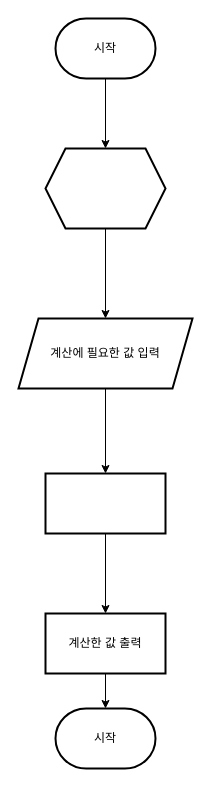
This 210x786 diagram has some shape labels left out. Each missing label, with the centre of its shape:
"계산" belongs at pixel 105 503.
"변수 선언 및 초기값 설명" belongs at pixel 105 188.
